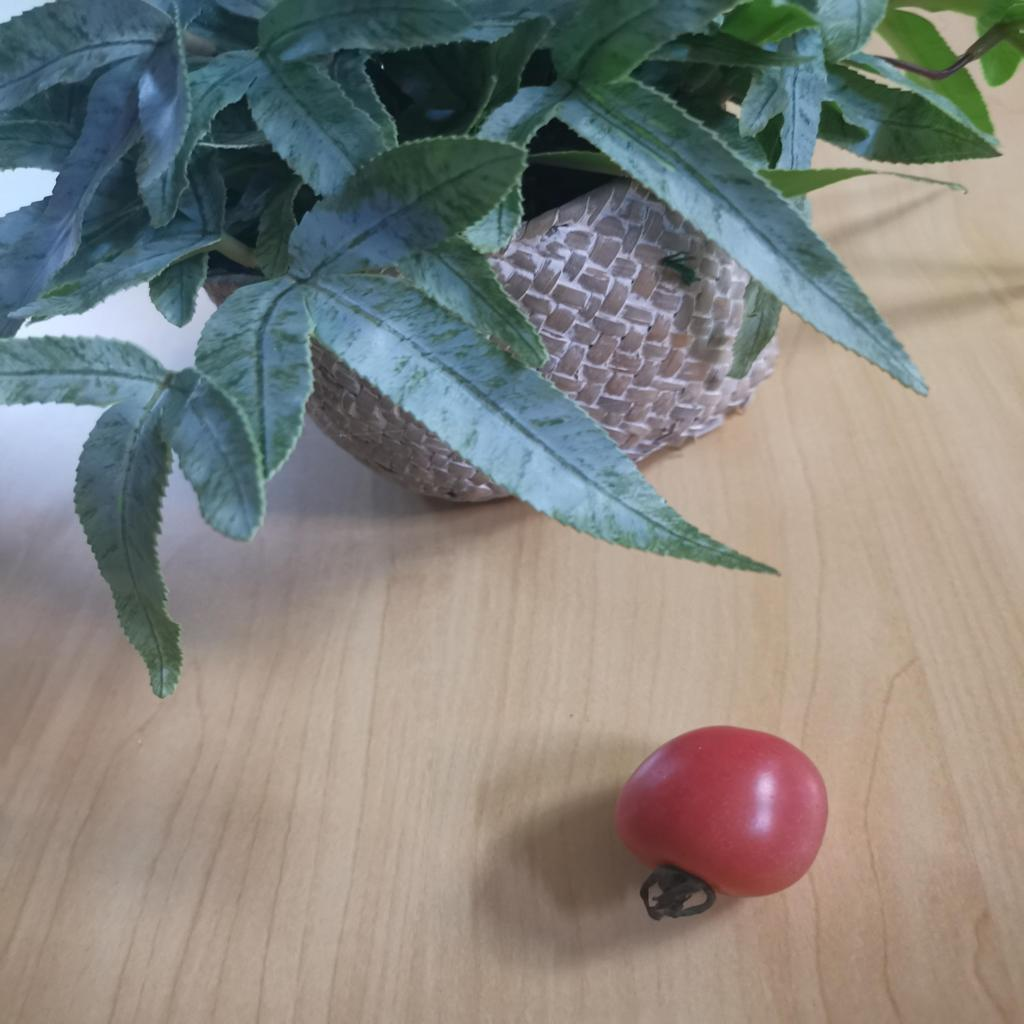tomato: (624, 734, 822, 903)
